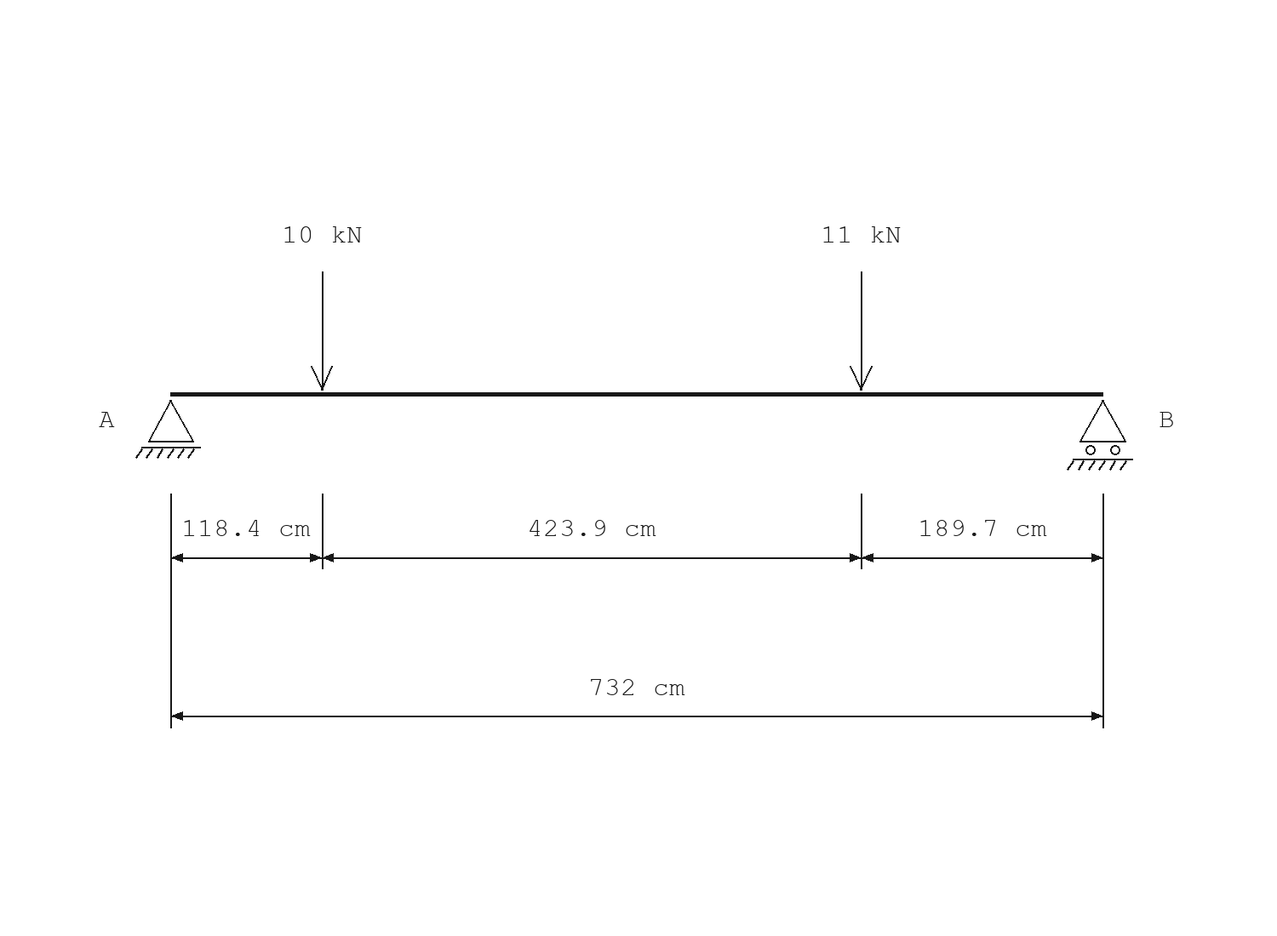pin_support: (135, 400, 201, 459)
point_load: (850, 271, 873, 391), (311, 271, 333, 391)
roller_support: (1067, 400, 1133, 471)
